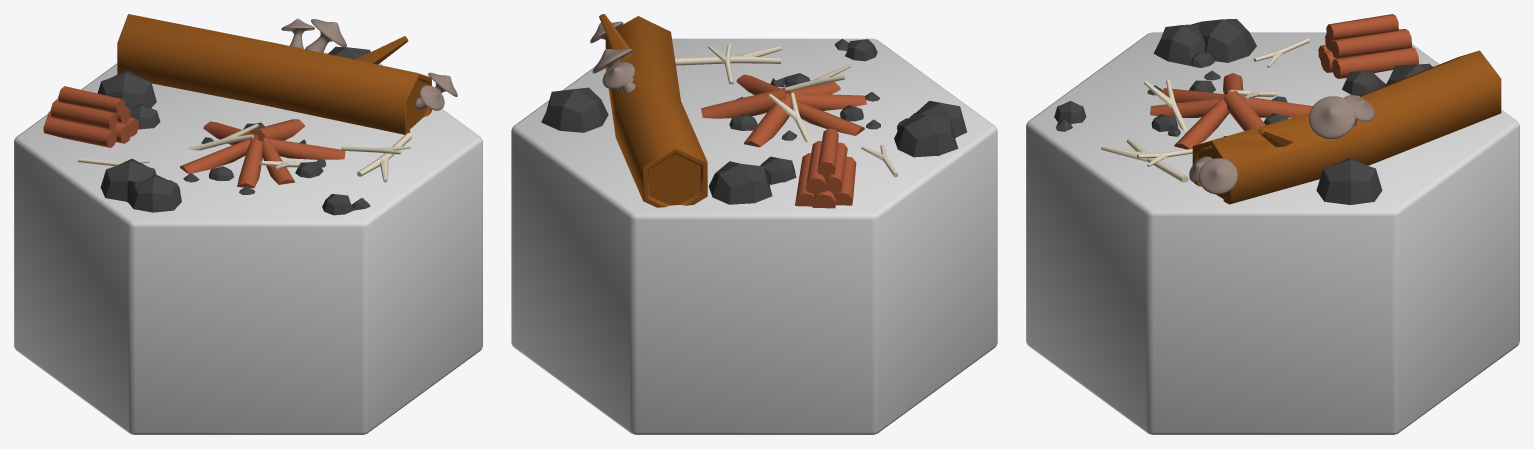
File: cyl11.fbx
3 views of the same model, side by side, from view 1: azimuth 30°, elevation 25°; view 2: azimuth 150°, elevation 25°; view 3: azimuth 270°, elevation 25° (orthographic). The views are drawn at different scales.
Parts seen in each view (by area): view 1: Cylinder011; view 2: Cylinder011; view 3: Cylinder011.
Part boxes in pixels (x1,y1,x2,y2): Cylinder011: [14, 14, 482, 434]; Cylinder011: [511, 14, 997, 434]; Cylinder011: [1026, 14, 1519, 434].
Size of the model in its own units: 175 by 133 by 199.
